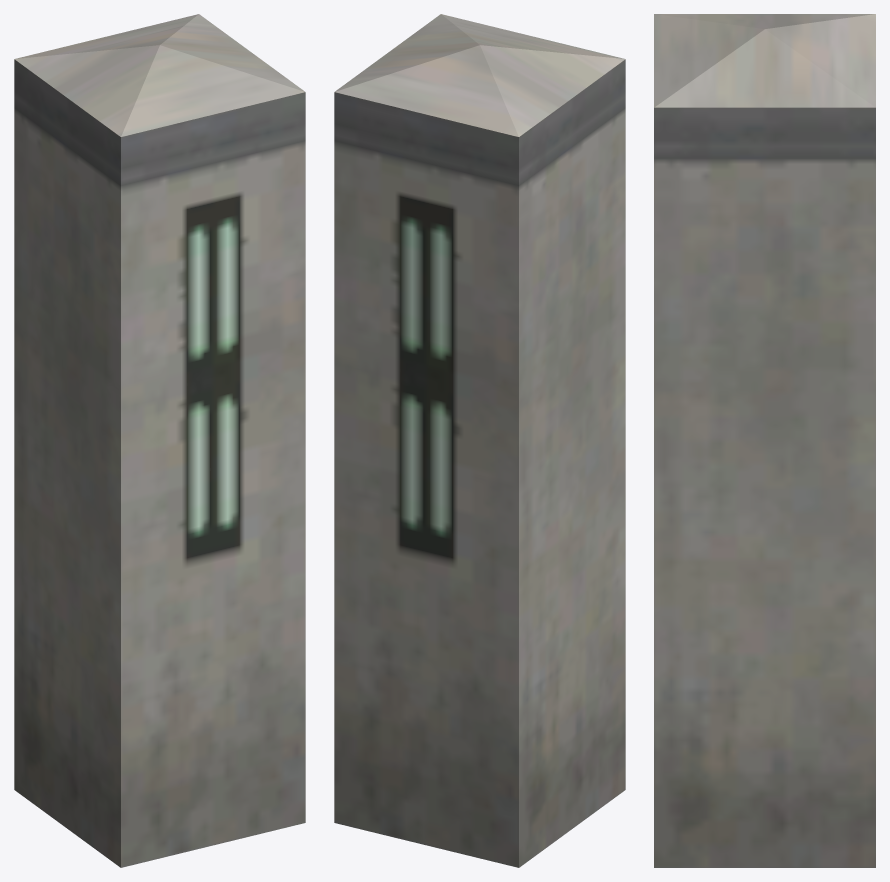
The model's file is thm_corl_imprv_column_s02_l1.fbx.
3 renders of one model, left to right at view 1: azimuth 30°, elevation 25°; view 2: azimuth 150°, elevation 25°; view 3: azimuth 270°, elevation 25°, orthographic. The views are drawn at different scales.
Visible parts, largest first — view 1: mesh_node; view 2: mesh_node; view 3: mesh_node.
Part boxes in pixels (<box>): mesh_node: <box>14,14,305,867</box>; mesh_node: <box>334,14,625,867</box>; mesh_node: <box>654,14,875,867</box>.
Bounding box in the file's own units: 1.5 × 5.9 × 1.5.
1 material, 1 textured.
